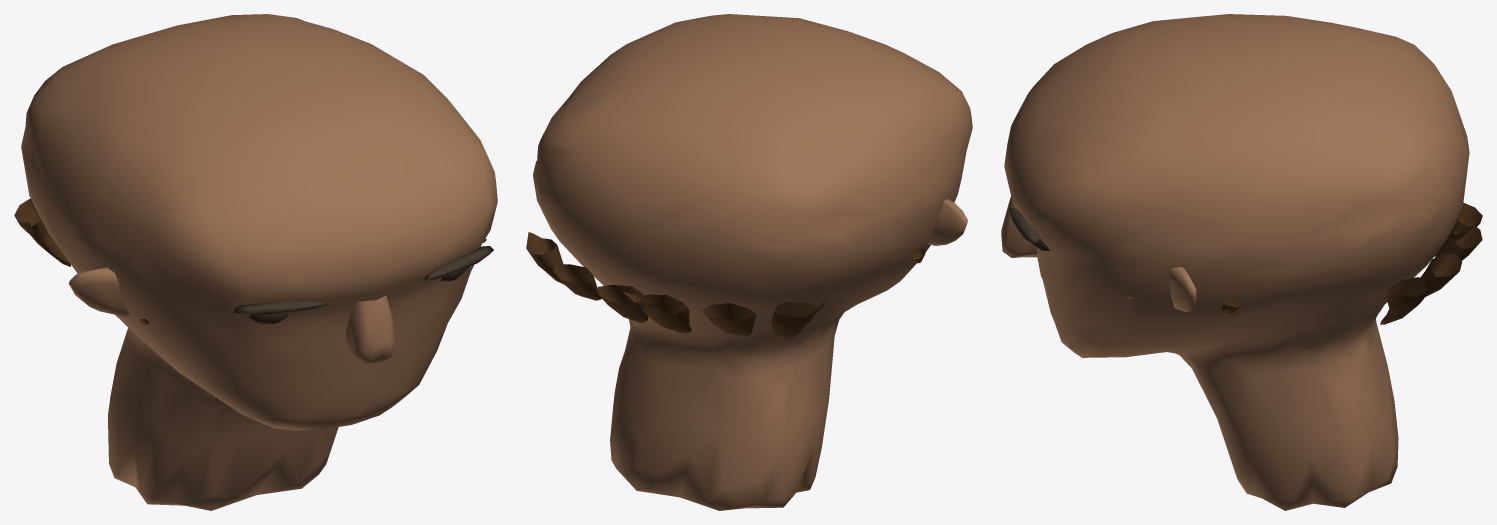
Rendered from beach-man-head.glb.
3 views of the same model, side by side, from view 1: azimuth 30°, elevation 25°; view 2: azimuth 150°, elevation 25°; view 3: azimuth 270°, elevation 25° (orthographic). The views are drawn at different scales.
Parts seen in each view (by area): view 1: Identity_beach-man; view 2: Identity_beach-man; view 3: Identity_beach-man.
Part boxes in pixels (box(x1,y1,x2,y2)): Identity_beach-man: box(14, 14, 497, 510); Identity_beach-man: box(526, 14, 972, 510); Identity_beach-man: box(1001, 14, 1482, 510).
Bounding box in the file's own units: 1 × 1 × 1.03.
